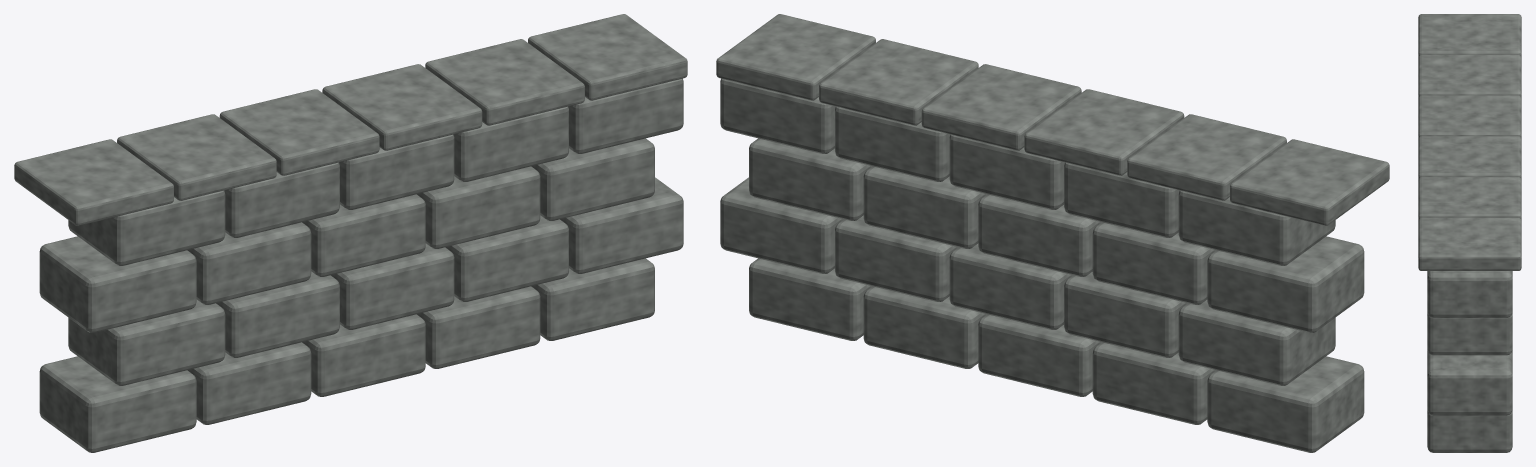
The model's file is GR_RetainingWall_03.glb.
3 renders of one model, left to right at view 1: azimuth 30°, elevation 25°; view 2: azimuth 150°, elevation 25°; view 3: azimuth 270°, elevation 25°, orthographic. The views are drawn at different scales.
Parts seen in each view (by area): view 1: Static; view 2: Static; view 3: Static.
Part boxes in pixels (<box>): Static: <box>14,14,687,452</box>; Static: <box>716,14,1389,452</box>; Static: <box>1418,14,1521,452</box>.
Size of the model in its own units: 2.58 by 1.03 by 0.46.
Materials: 1 (1 with a texture image).
